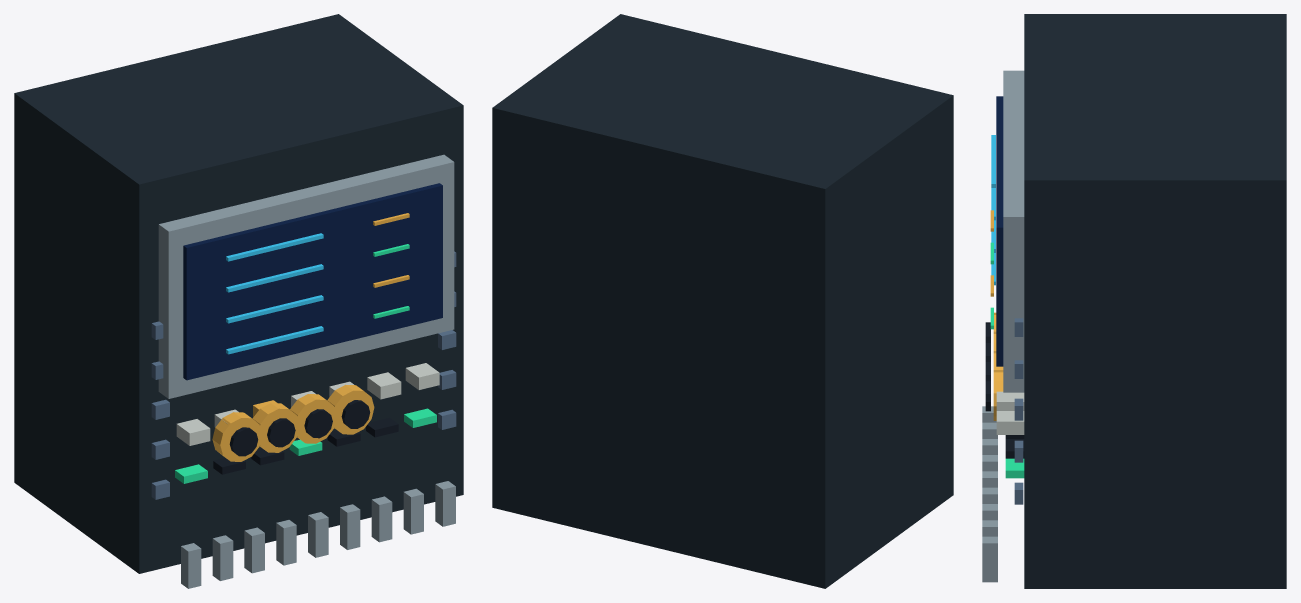
The model's file is 57_L84_StructuralVibrationSensor.fbx.
3 views of the same model, side by side, from view 1: azimuth 30°, elevation 25°; view 2: azimuth 150°, elevation 25°; view 3: azimuth 270°, elevation 25° (orthographic). The views are drawn at different scales.
Visible parts, largest first — view 1: L84_StructuralVibrationSensor, L84_StructuralVibrationSensor_Part_0009, L84_StructuralVibrationSensor_Part_0013, L84_StructuralVibrationSensor_Part_0011, L84_StructuralVibrationSensor_Part_0015, L84_StructuralVibrationSensor_Part_0010, L84_StructuralVibrationSensor_Part_0012, L84_StructuralVibrationSensor_Part_0014, L84_StructuralVibrationSensor_Part_0016; view 2: L84_StructuralVibrationSensor; view 3: L84_StructuralVibrationSensor.
Boxes of the visible parts, x1,y1,x2,y2 form: L84_StructuralVibrationSensor: (14, 14, 463, 588); L84_StructuralVibrationSensor_Part_0009: (212, 412, 261, 461); L84_StructuralVibrationSensor_Part_0013: (290, 394, 336, 443); L84_StructuralVibrationSensor_Part_0011: (252, 403, 298, 452); L84_StructuralVibrationSensor_Part_0015: (327, 384, 374, 434); L84_StructuralVibrationSensor_Part_0010: (229, 427, 258, 456); L84_StructuralVibrationSensor_Part_0012: (267, 418, 295, 447); L84_StructuralVibrationSensor_Part_0014: (304, 409, 332, 438); L84_StructuralVibrationSensor_Part_0016: (341, 400, 370, 428); L84_StructuralVibrationSensor: (492, 14, 953, 588); L84_StructuralVibrationSensor: (982, 14, 1286, 588).
Size of the model in its own units: 99.96 by 117 by 77.32.
